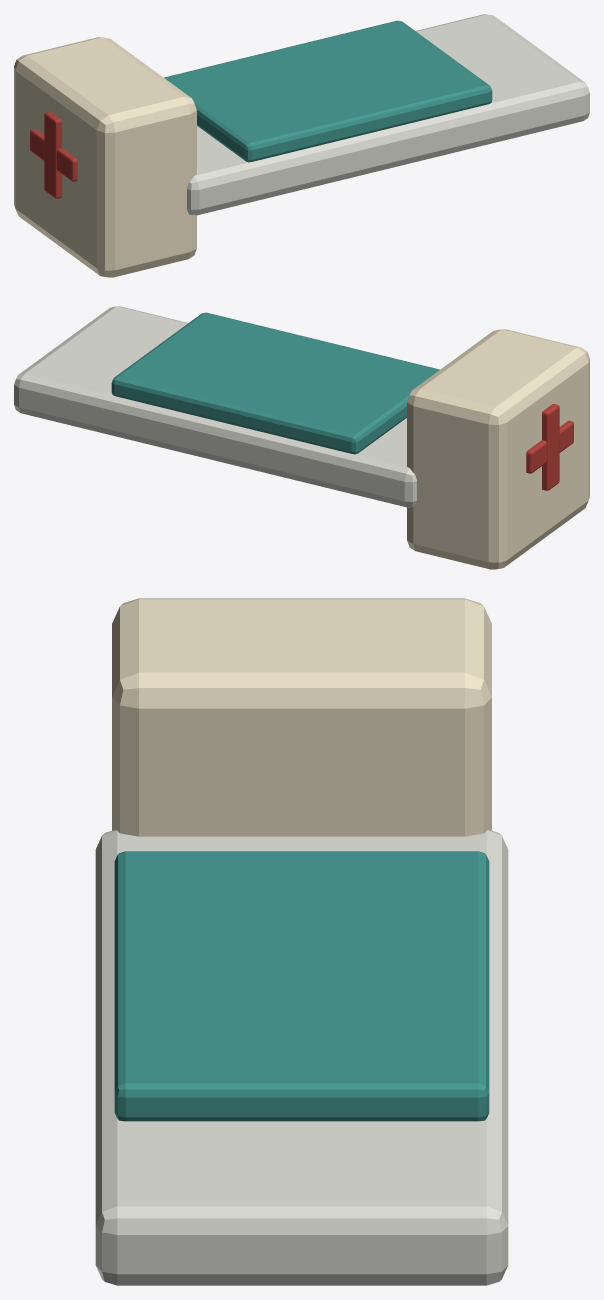
The model's file is module_medical_bunk_v01.glb.
3 renders of one model, top to bottom at view 1: azimuth 30°, elevation 25°; view 2: azimuth 150°, elevation 25°; view 3: azimuth 270°, elevation 25°, orthographic. The views are drawn at different scales.
Parts seen in each view (by area): view 1: GEO_MedicalCabinet, GEO_MedicalBlanket, GEO_MedicalBunk, GEO_MedicalMark_H, GEO_MedicalMark_V; view 2: GEO_MedicalCabinet, GEO_MedicalBlanket, GEO_MedicalBunk, GEO_MedicalMark_H, GEO_MedicalMark_V; view 3: GEO_MedicalBlanket, GEO_MedicalCabinet, GEO_MedicalBunk.
Boxes of the visible parts, x1,y1,x2,y2 form: GEO_MedicalCabinet: (14,37,196,277); GEO_MedicalBlanket: (164,20,492,162); GEO_MedicalBunk: (187,14,589,215); GEO_MedicalMark_H: (44,112,61,198); GEO_MedicalMark_V: (30,128,77,181); GEO_MedicalCabinet: (407,329,589,569); GEO_MedicalBlanket: (111,312,439,454); GEO_MedicalBunk: (14,306,416,507); GEO_MedicalMark_H: (542,404,559,490); GEO_MedicalMark_V: (526,420,573,473); GEO_MedicalBlanket: (114,851,489,1121); GEO_MedicalCabinet: (112,598,491,836); GEO_MedicalBunk: (95,830,508,1285).
Size of the model in its own units: 2.1 by 0.66 by 0.76.
